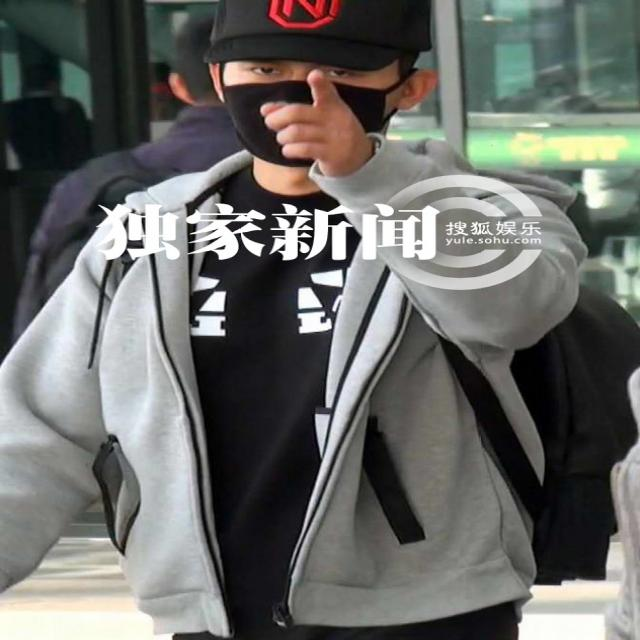mask: (223, 4, 389, 168)
